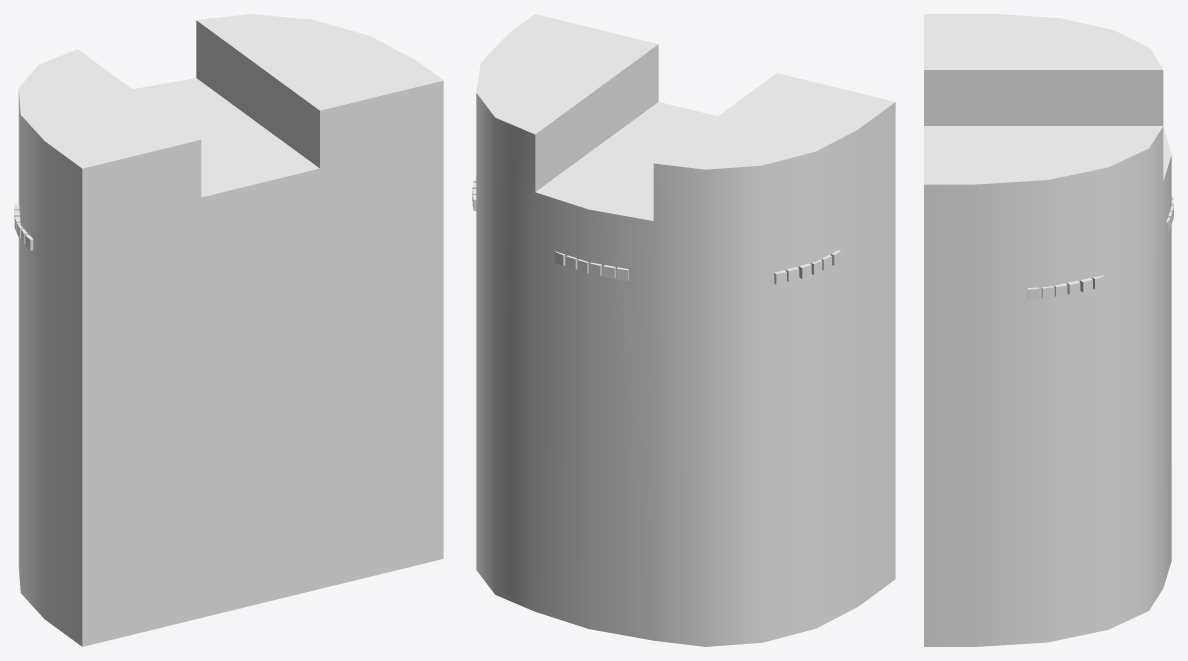
File: Wall D.fbx
The picture shows the model from 3 angles, left to right: view 1: azimuth 30°, elevation 25°; view 2: azimuth 150°, elevation 25°; view 3: azimuth 270°, elevation 25°; orthographic projection. The views are drawn at different scales.
Parts seen in each view (by area): view 1: Cube.021; view 2: Cube.021; view 3: Cube.021.
Boxes of the visible parts, left/top/right/bottom form: Cube.021: left=14, top=14, right=443, bottom=646; Cube.021: left=472, top=14, right=895, bottom=646; Cube.021: left=924, top=14, right=1173, bottom=646.
Bounding box in the file's own units: 246 × 311 × 153.
